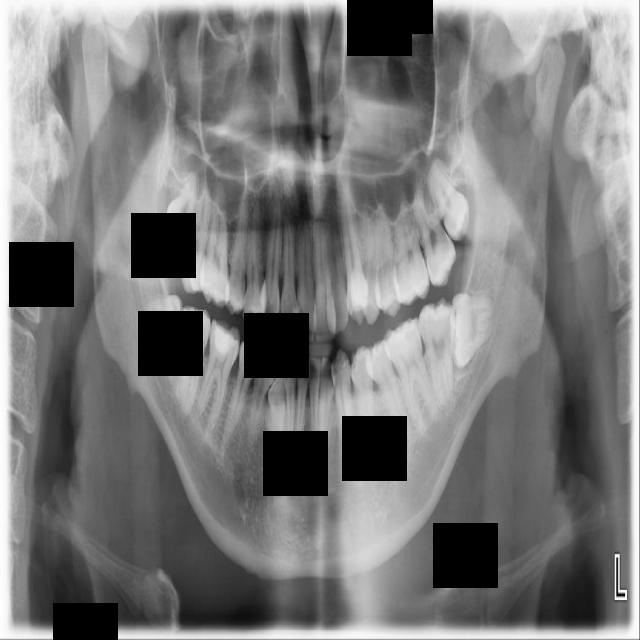3M ESPE Implant: (158, 169, 200, 256)
73: (606, 559, 610, 565)
BioHorizons Implant: (410, 178, 462, 292)
BioLife Implant: (425, 153, 477, 245)
Biomet 3i Implant: (448, 293, 497, 370)
Blue Sky Bio Implant: (415, 296, 456, 411)
Caries: (173, 176, 213, 296)
Implant: (179, 305, 211, 415)
Keystone Dental Implant: (142, 292, 186, 366)
